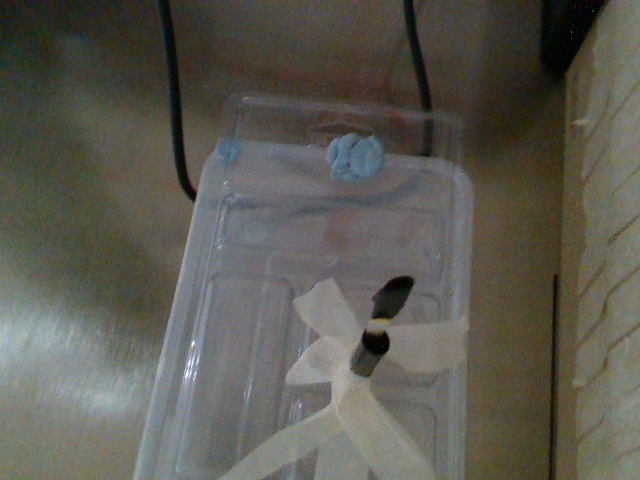test_strip: (363, 275, 418, 333)
